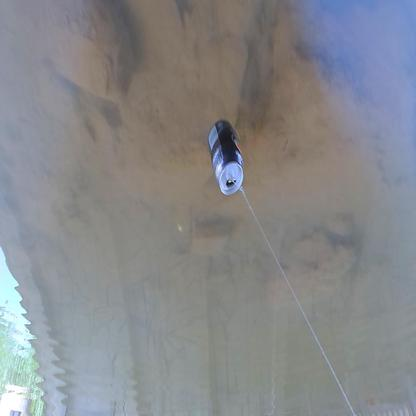can: (208, 120, 243, 196)
